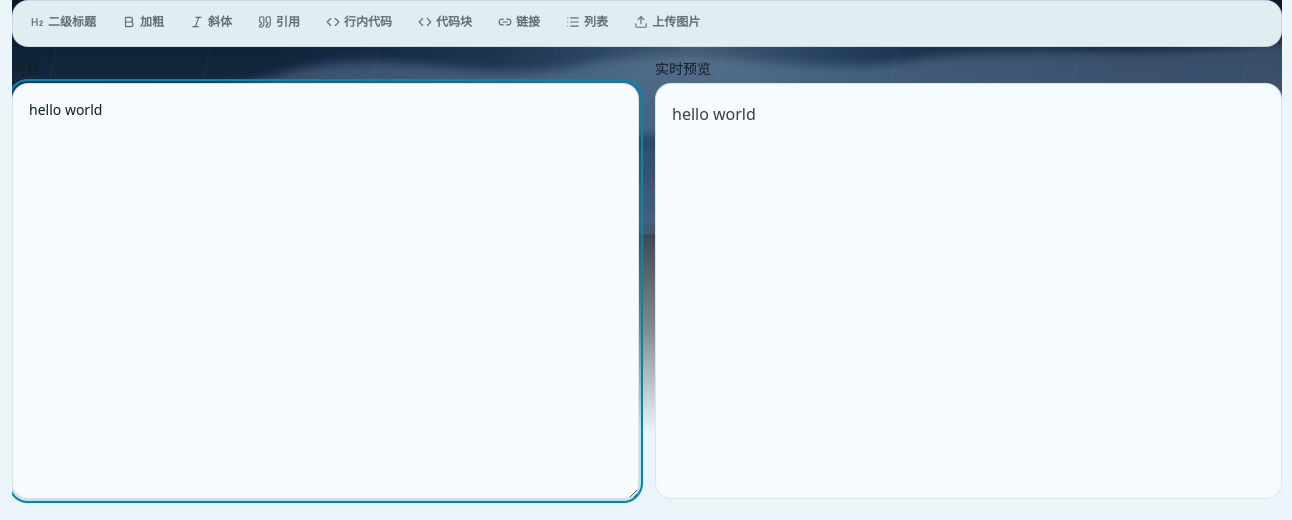
Test: markdown editor › inserts a heading prefix at the cursor and keeps the caret after the marker
Click the button "二级标题".
click(63, 24)  # box top-left (21, 9), bottom-right (105, 38)
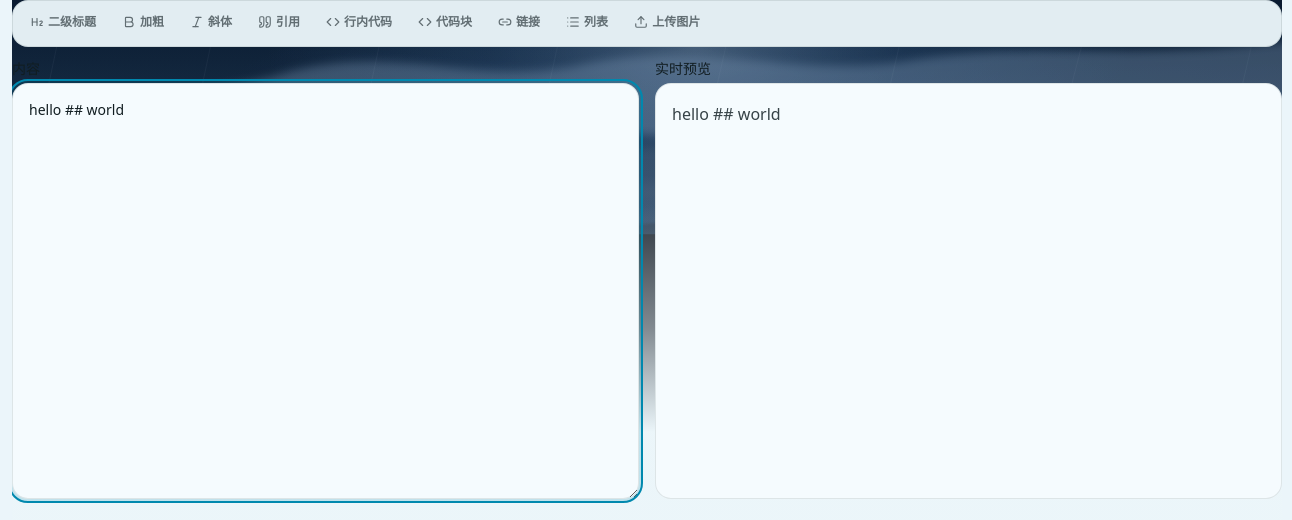
Expected: the text box holds "hello ## world", top-left (12, 83), bottom-right (639, 499)
